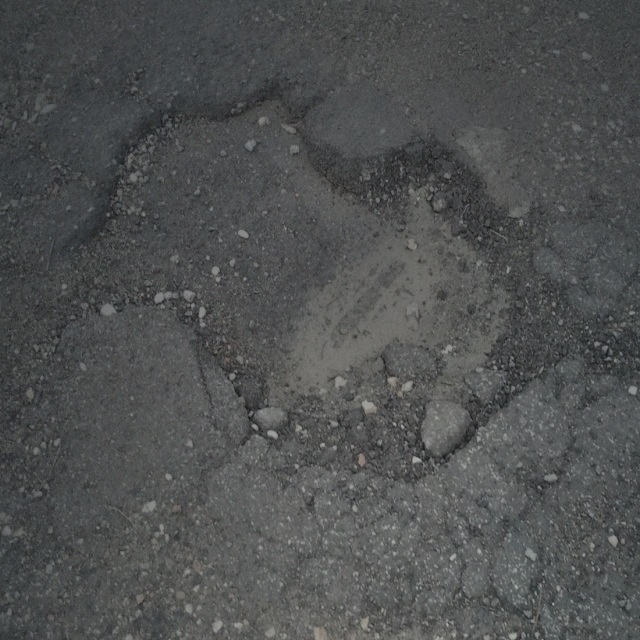pothole: (105, 78, 553, 487)
